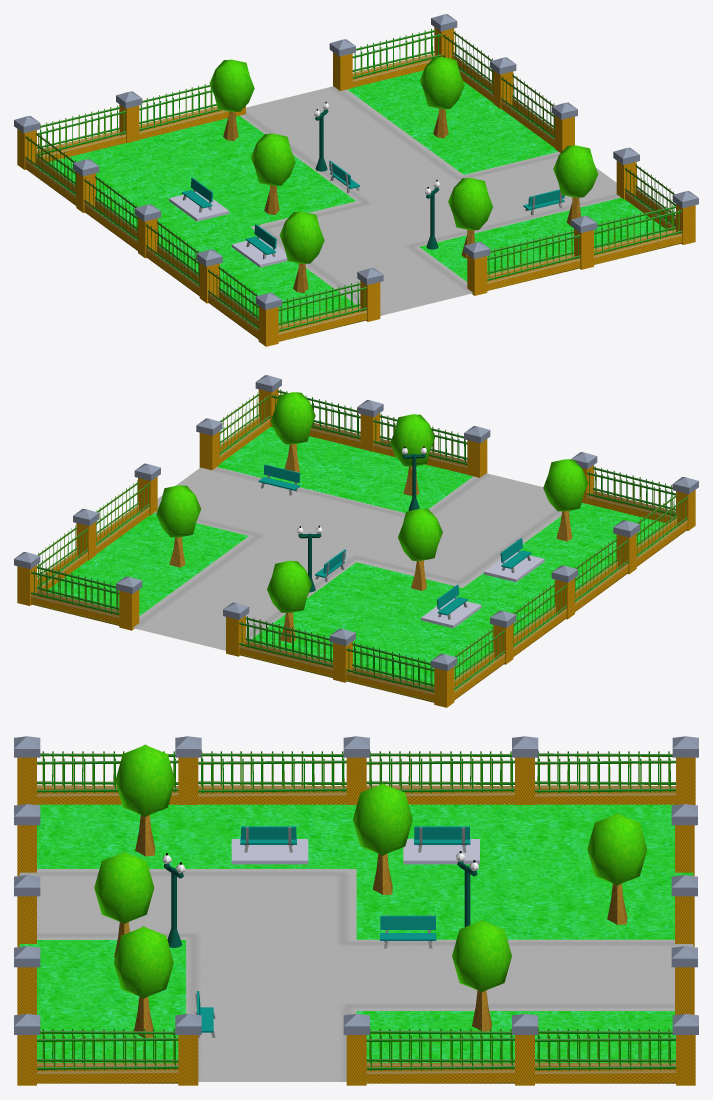
File: park.fbx
The picture shows the model from 3 angles, top to bottom: view 1: azimuth 30°, elevation 25°; view 2: azimuth 150°, elevation 25°; view 3: azimuth 270°, elevation 25°; orthographic projection. The views are drawn at different scales.
Parts seen in each view (by area): view 1: pPlane85, pCube123, pCube122, pCube121, pCube118, pCube119, pCube120, tree5, tree6, tree3, tree2, tree4 (+28 smaller); view 2: pPlane85, pCube120, pCube118, pCube119, pCube121, tree3, tree5, tree2, tree4, tree6, tree7, pCube106 (+29 smaller); view 3: pPlane85, pCube117, pCube106, pCube115, pCube116, pCube84, pCube104, tree5, tree2, tree6, tree3, tree4 (+25 smaller).
Boxes of the visible parts, x1,y1,x2,y2 form: pPlane85: (34, 69, 674, 328); pCube123: (487, 229, 580, 290); pCube122: (594, 205, 682, 264); pCube121: (278, 282, 366, 341); pCube118: (352, 28, 441, 87); pCube119: (37, 105, 125, 162); pCube120: (139, 84, 228, 139); tree5: (279, 211, 324, 292); tree6: (209, 59, 254, 140); tree3: (419, 57, 464, 138); tree2: (250, 133, 295, 214); tree4: (553, 145, 598, 225); pPlane85: (37, 425, 677, 701); pCube120: (239, 616, 332, 677); pCube118: (31, 565, 119, 625); pCube119: (346, 642, 434, 702); pCube121: (587, 466, 675, 523); tree3: (156, 485, 200, 567); tree5: (543, 459, 587, 541); tree2: (398, 508, 442, 590); tree4: (270, 392, 315, 472); tree6: (267, 560, 311, 642); tree7: (390, 414, 434, 495); pCube106: (575, 537, 628, 611); pPlane85: (19, 804, 693, 1081); pCube117: (366, 1029, 514, 1083); pCube106: (198, 751, 346, 804); pCube115: (535, 1029, 675, 1083); pCube116: (37, 1029, 178, 1083); pCube84: (535, 751, 675, 804); pCube104: (366, 751, 514, 804); tree5: (115, 744, 175, 856); tree2: (353, 783, 412, 894); tree6: (587, 813, 647, 924); tree3: (452, 920, 511, 1031); tree4: (114, 926, 173, 1037).
Size of the model in its own units: 81.1 by 14.42 by 81.34.
